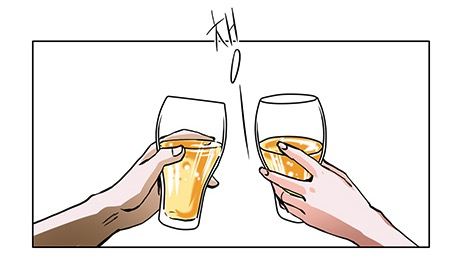beer: (150, 92, 229, 233), (252, 92, 329, 225)
cup: (147, 93, 228, 234), (250, 87, 329, 225)
